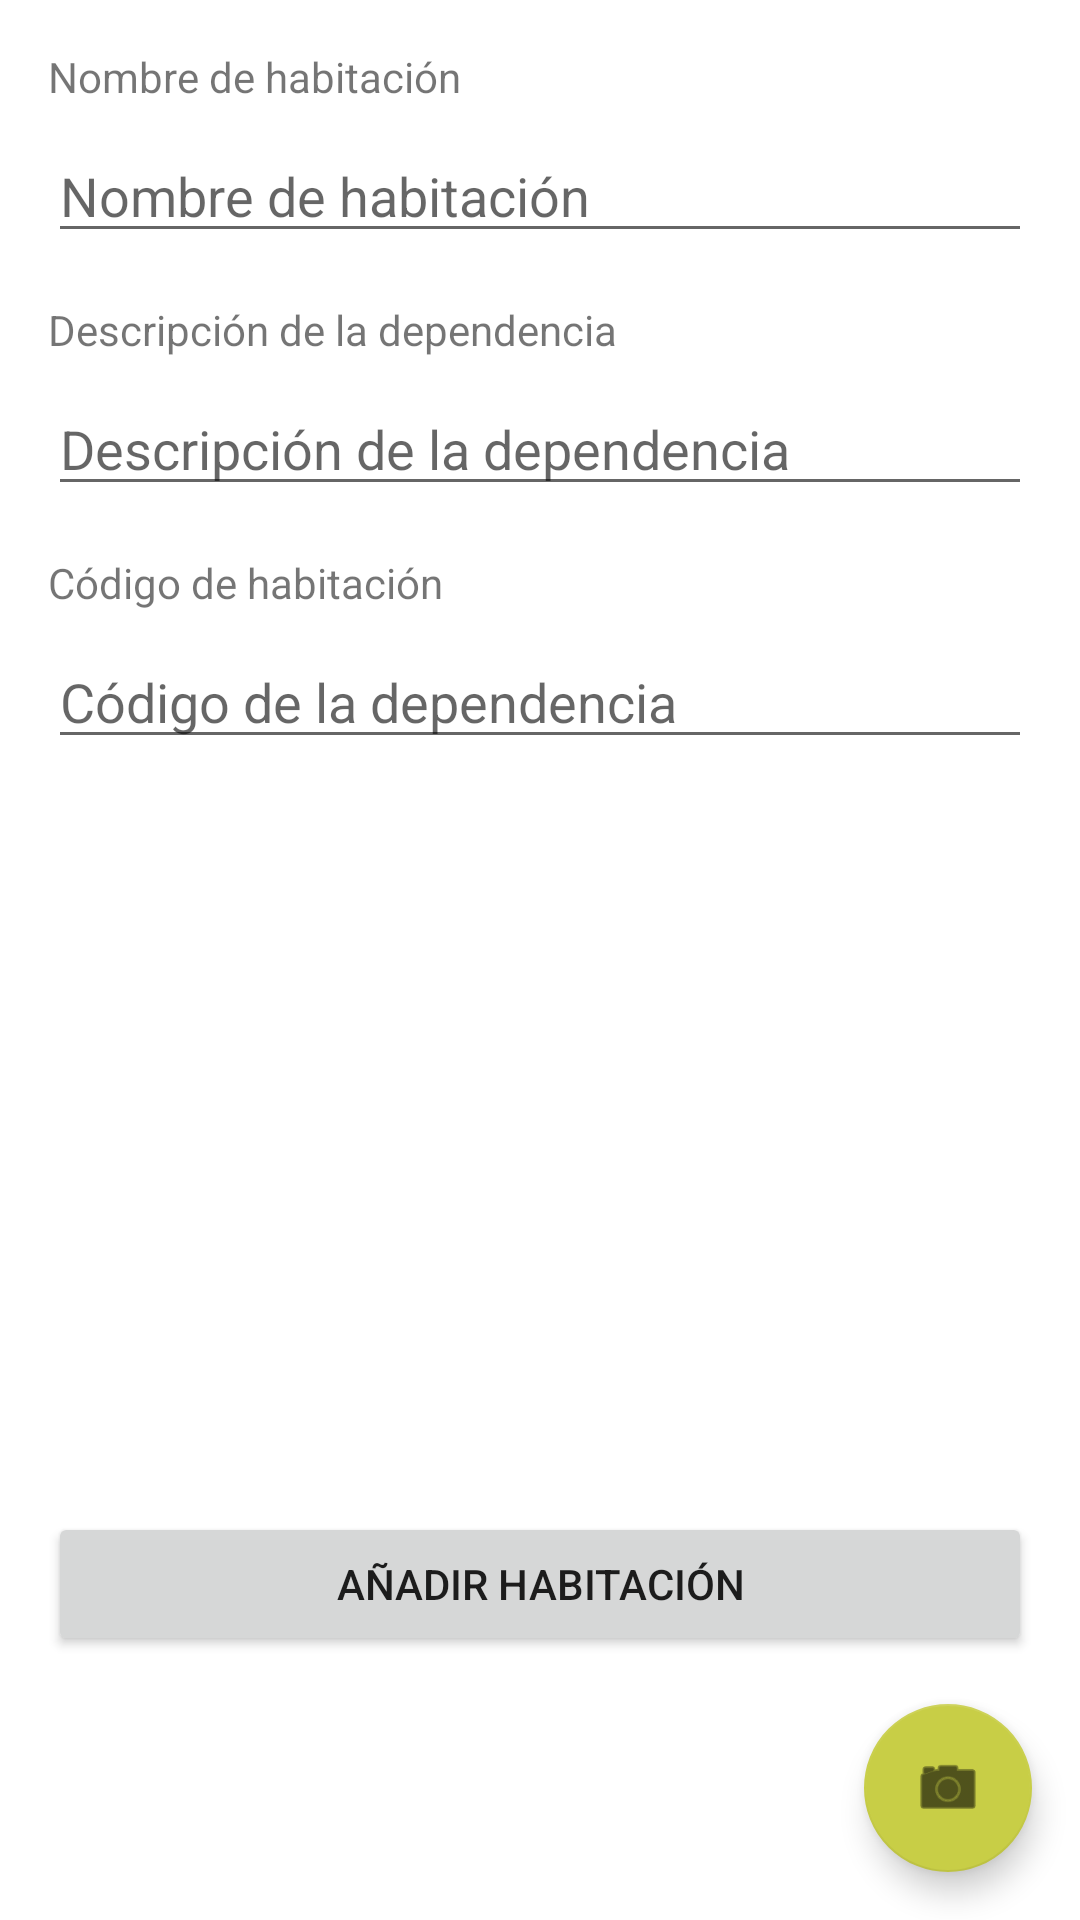

Named icons in this screenshot (1080x1920) and their bounding boxes, (x1, y1, x2, y2):
camera: (864, 1704, 1032, 1872)
